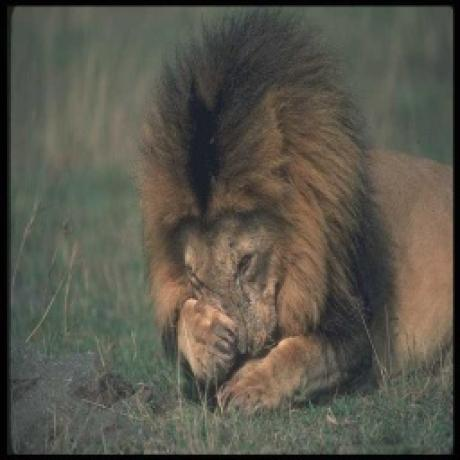Lion: (133, 7, 453, 422)
